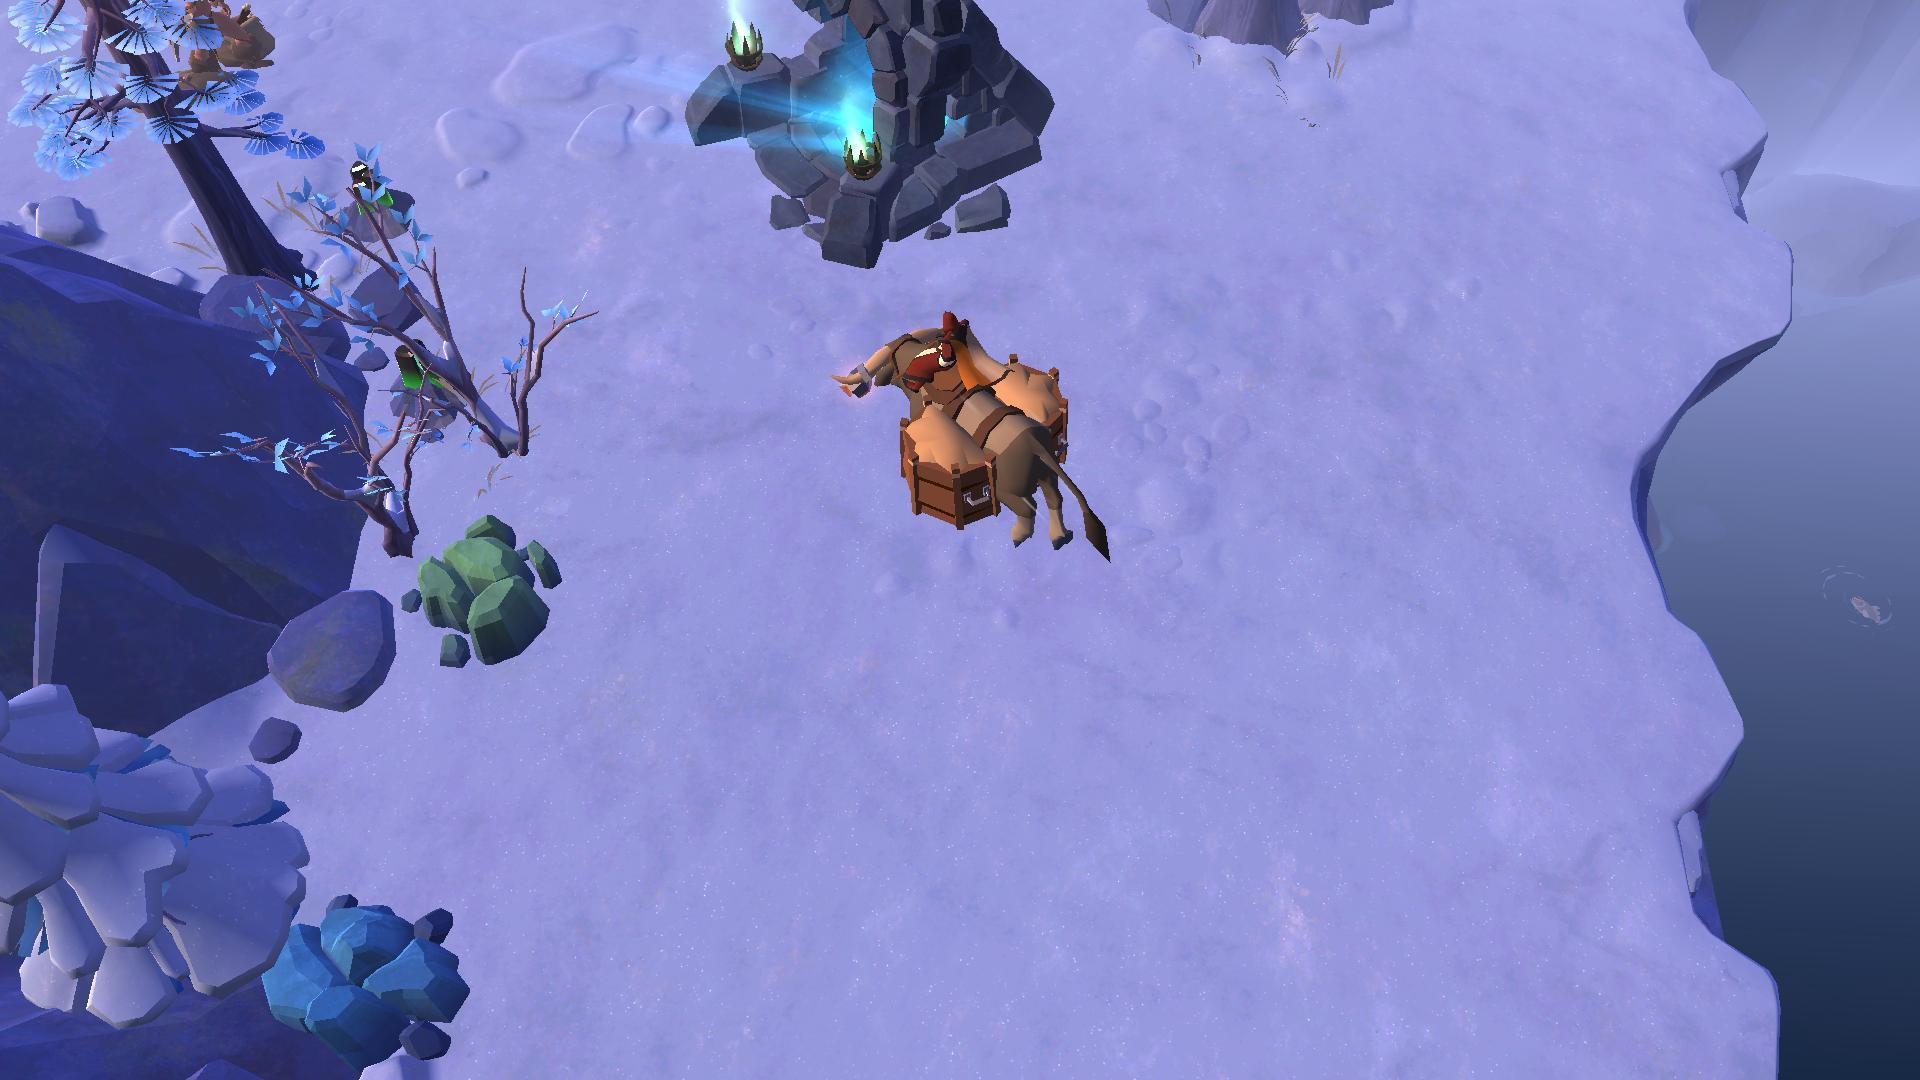ore_t3: (389, 334, 444, 396), (336, 150, 388, 212)
rock_t3: (400, 508, 568, 663)
rock_t4: (255, 889, 476, 1067)
